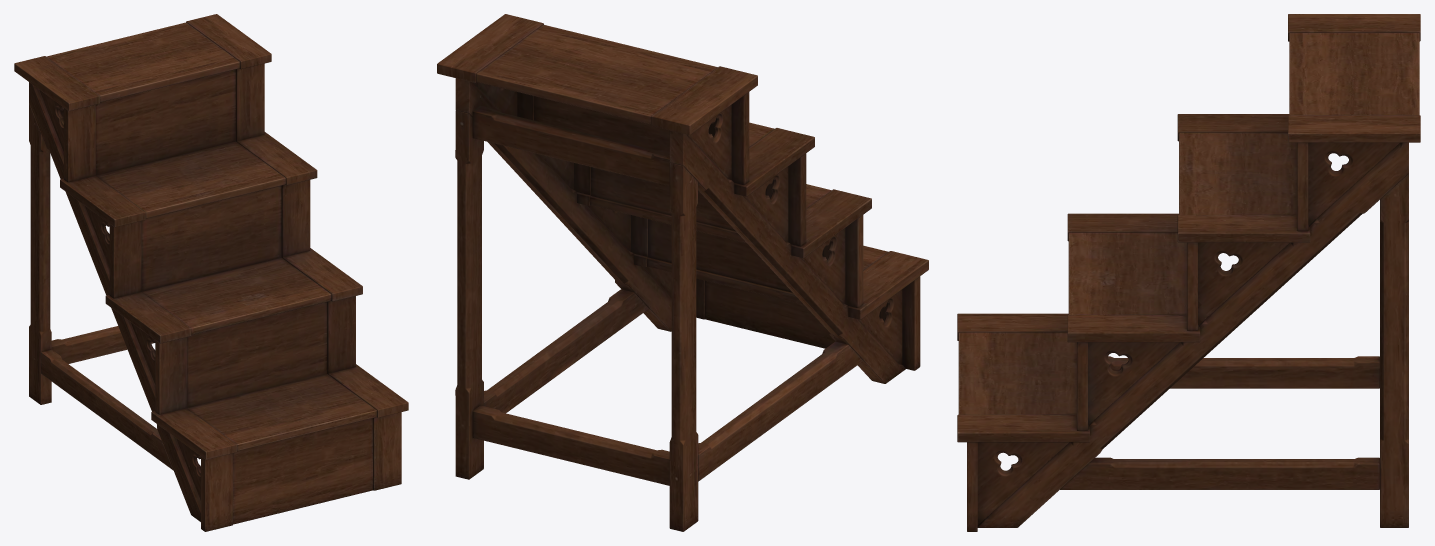
The model's file is prop-library-stairs.glb.
The picture shows the model from 3 angles, left to right: view 1: azimuth 30°, elevation 25°; view 2: azimuth 150°, elevation 25°; view 3: azimuth 270°, elevation 25°; orthographic projection. The views are drawn at different scales.
Parts seen in each view (by area): view 1: Sidewalls, Steps, Frame, Sidewalls_s; view 2: Frame, Steps, Sidewalls, Sidewalls_s; view 3: Steps, Frame, Sidewalls_s, Sidewalls.
Boxes of the visible parts, x1,y1,x2,y2 form: Sidewalls: [64, 63, 401, 531]; Steps: [14, 14, 408, 459]; Frame: [29, 82, 200, 521]; Sidewalls_s: [39, 90, 200, 500]; Frame: [455, 78, 905, 531]; Steps: [437, 14, 928, 319]; Sidewalls: [517, 92, 920, 370]; Sidewalls_s: [473, 82, 902, 364]; Steps: [957, 14, 1420, 442]; Frame: [977, 142, 1408, 527]; Sidewalls_s: [977, 142, 1399, 524]; Sidewalls: [967, 142, 1308, 531].
Size of the model in its own units: 0.65 by 1.02 by 1.06.
1 material, 1 textured.
